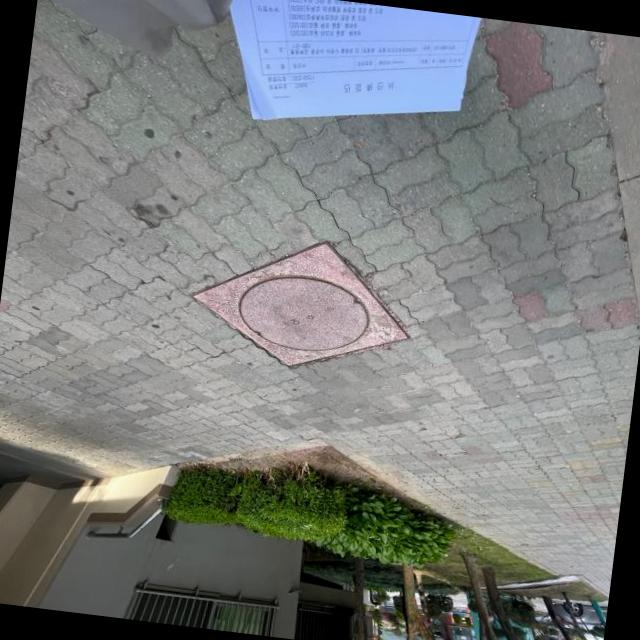manhole: (177, 219, 431, 387)
